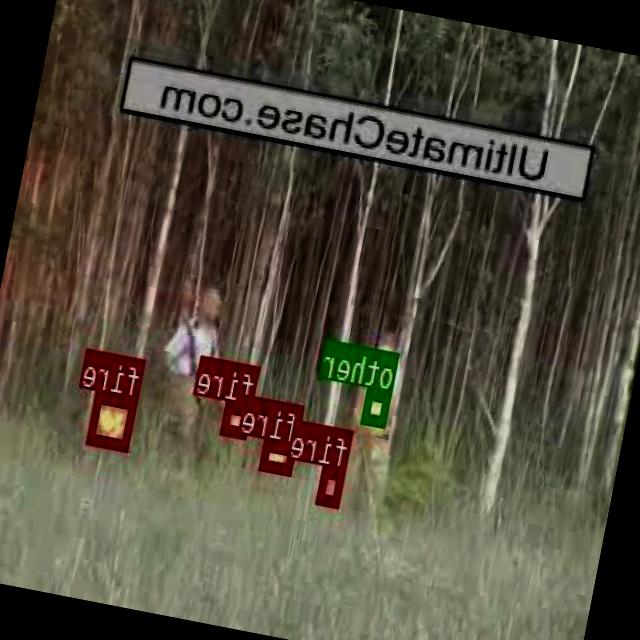fire: (88, 390, 139, 449), (260, 438, 298, 476), (318, 464, 347, 506), (223, 401, 254, 436)
